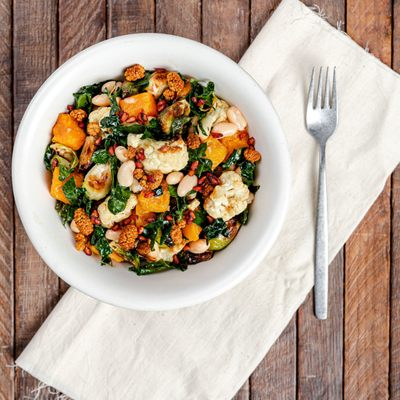burger: (306, 65, 339, 310)
curry: (107, 184, 132, 215)
sushi: (12, 31, 294, 313)
